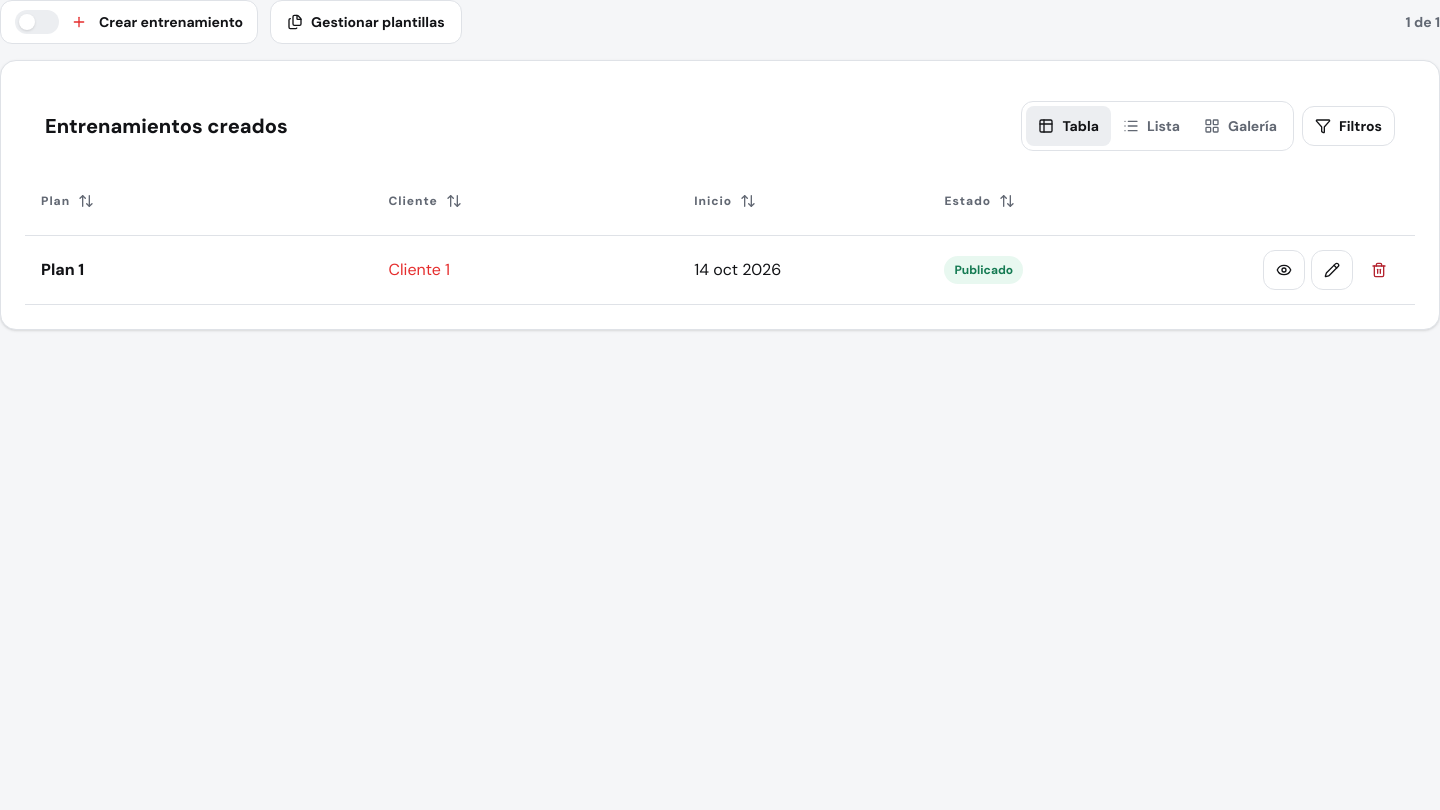
Scenario: AssignmentsManager › muestra y edita un entrenamiento estructurado desde el histórico
The image size is (1440, 810).
Click the button named "Ver entrenamiento Plan 1" at (1284, 270), box x1=1263 y1=250 x2=1305 y2=290
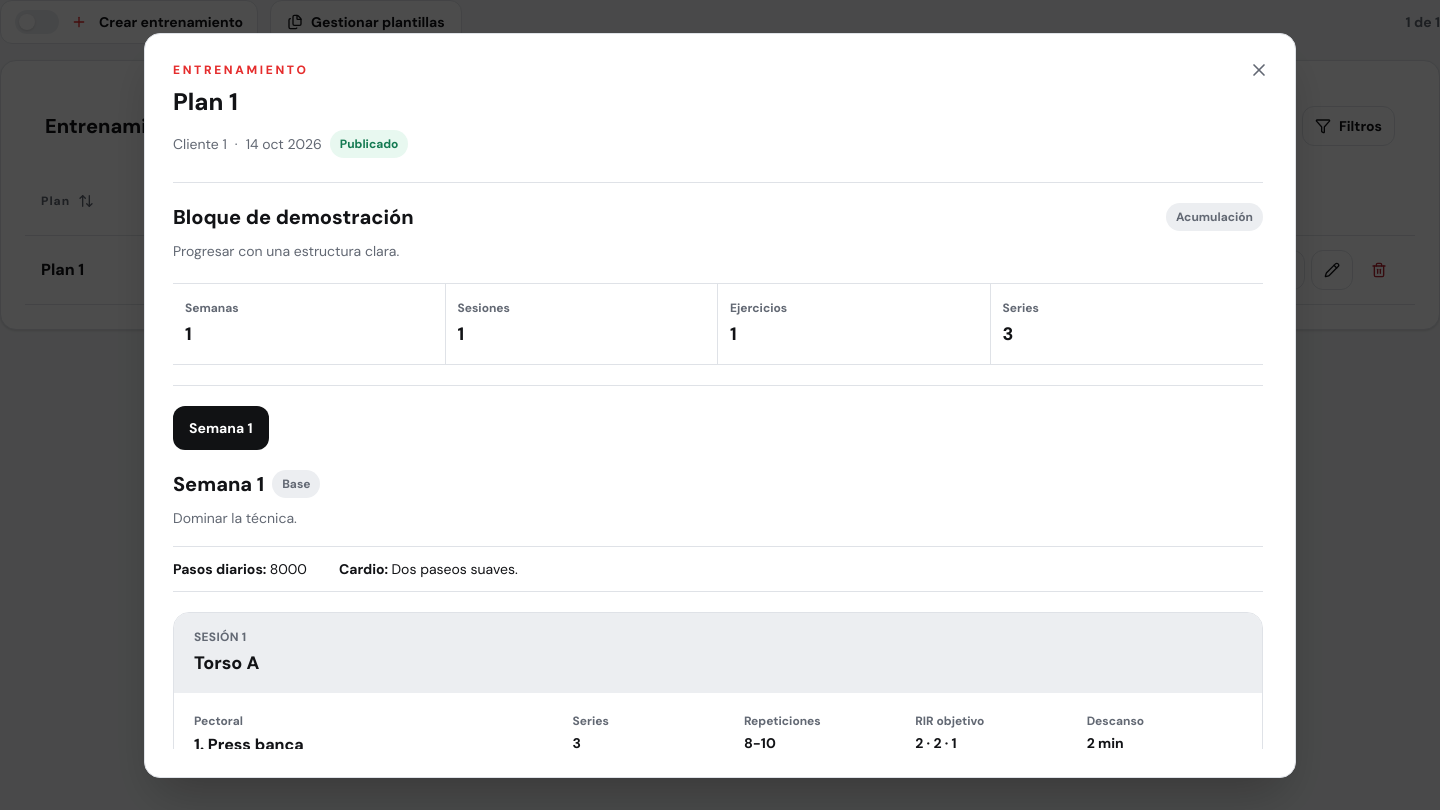
Expected: the dialog "Plan 1" shows "Bloque de demostración", x1=173 y1=204 x2=414 y2=230
Expected: the dialog "Plan 1" shows "Press banca", x1=208 y1=734 x2=304 y2=754
Click the button named "Cerrar plan" at (1259, 70), box x1=1239 y1=50 x2=1279 y2=90
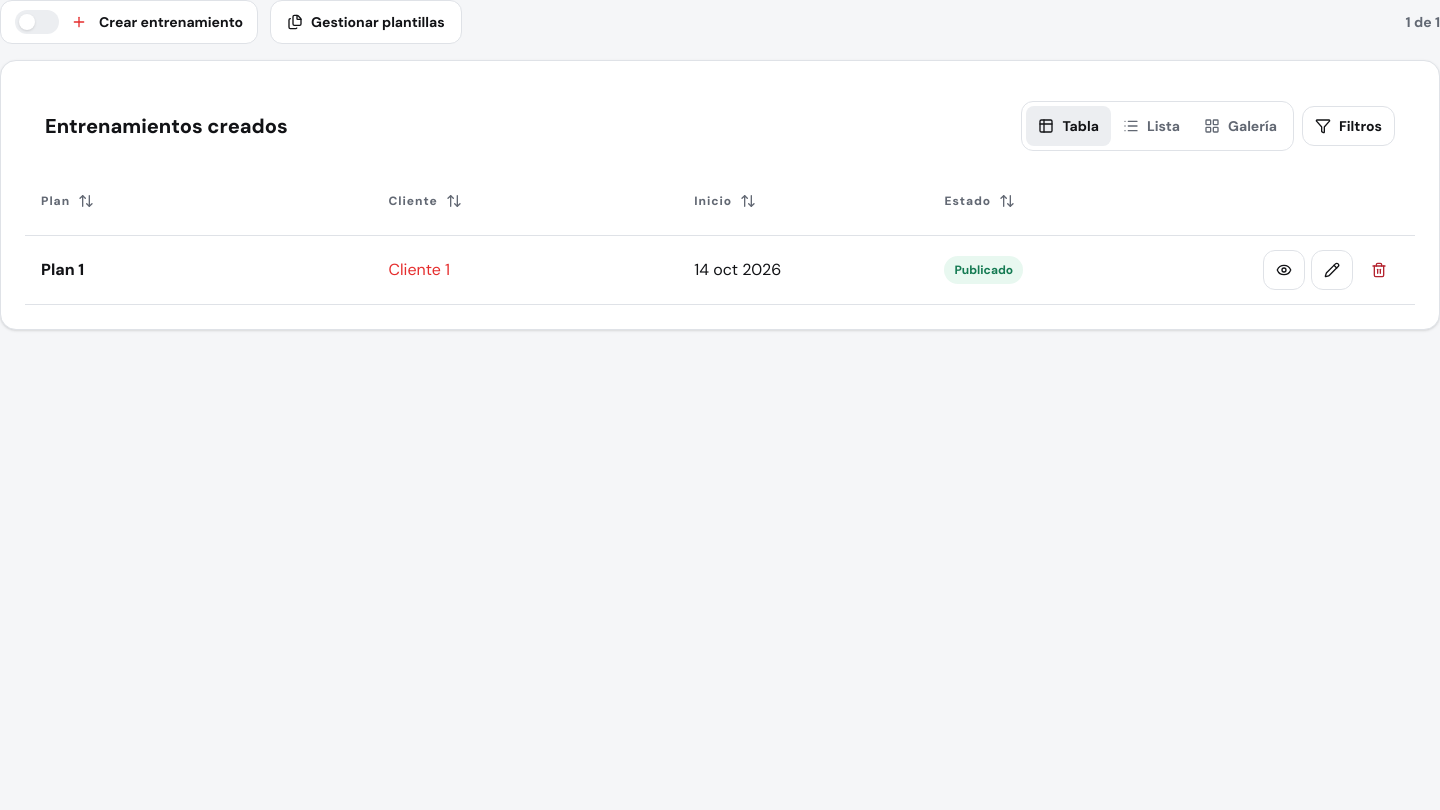
Click the button named "Editar entrenamiento Plan 1" at (1332, 270), box x1=1311 y1=250 x2=1353 y2=290
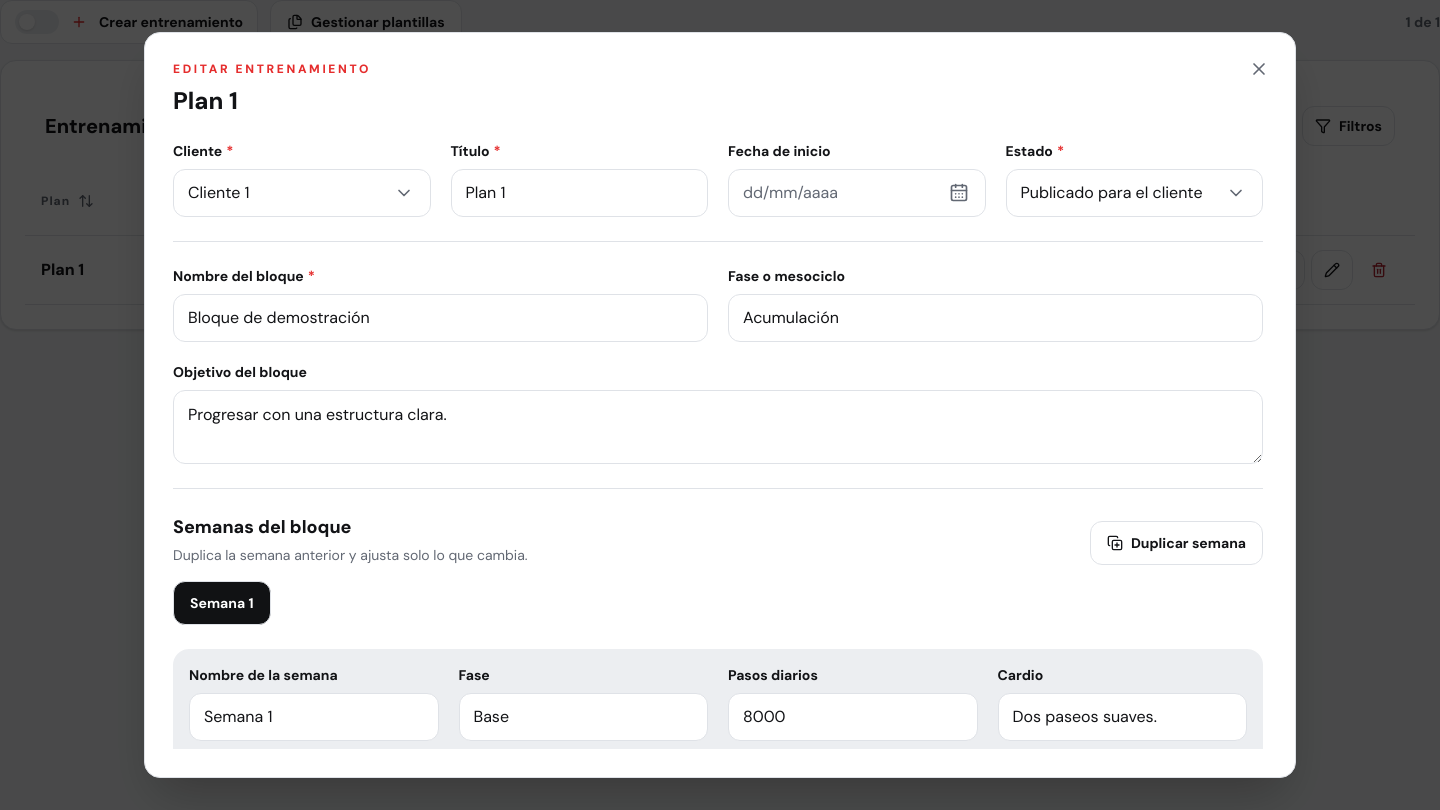
Expected: the field labelled "Nombre del bloque" holds "Bloque de demostración", x1=173 y1=294 x2=708 y2=342
